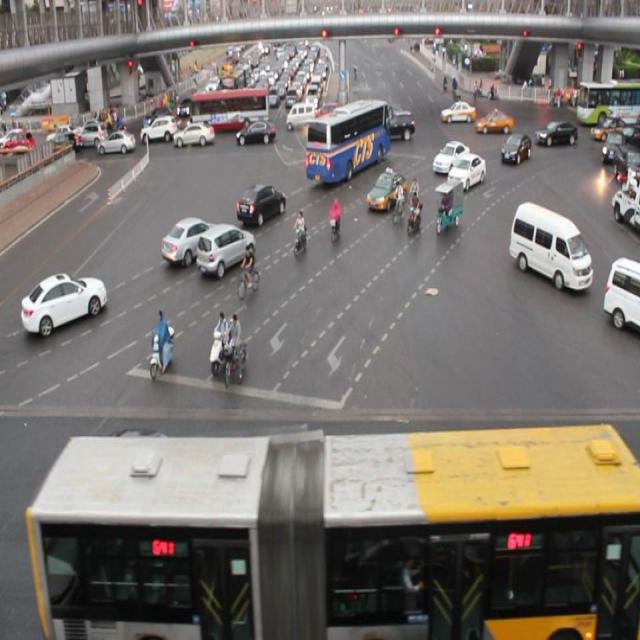car: (78, 428, 202, 518), (22, 270, 106, 334), (197, 222, 253, 270), (161, 216, 216, 260), (235, 183, 288, 224), (366, 170, 406, 209), (430, 139, 470, 172), (534, 119, 575, 148), (449, 154, 484, 186), (174, 120, 215, 147), (500, 131, 529, 163)
truck: (508, 203, 592, 291), (600, 256, 640, 332)
van: (23, 423, 640, 640), (305, 98, 394, 179)
